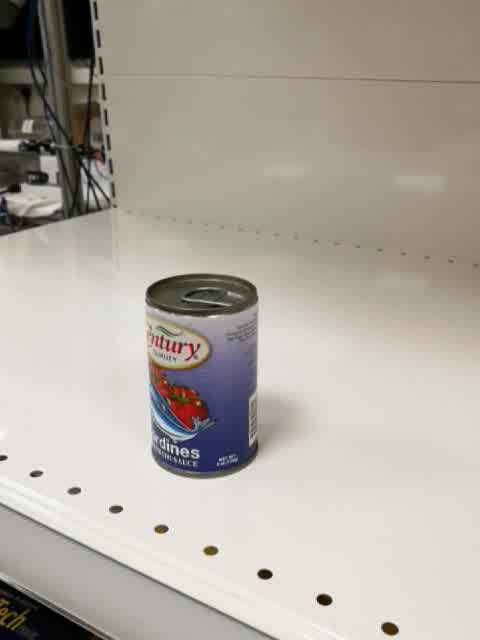sardine: (144, 271, 261, 480)
